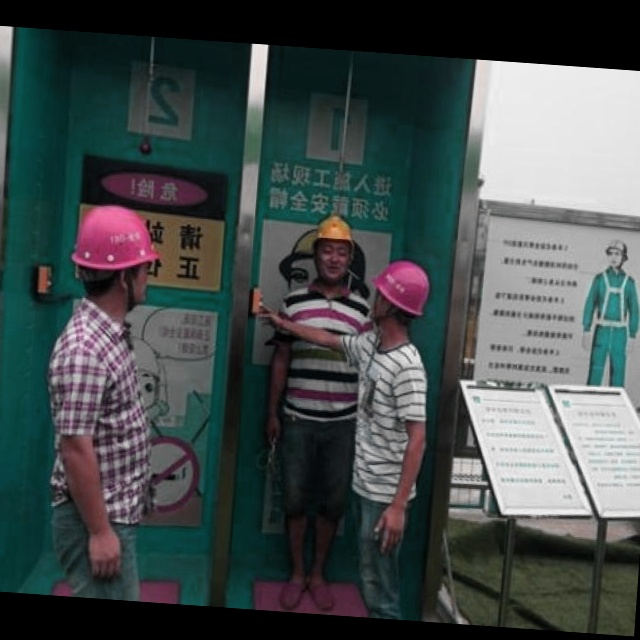Con_Casco: (72, 197, 160, 298), (372, 259, 433, 324), (309, 216, 355, 281)
Sin_Chaleco: (46, 313, 151, 519)
